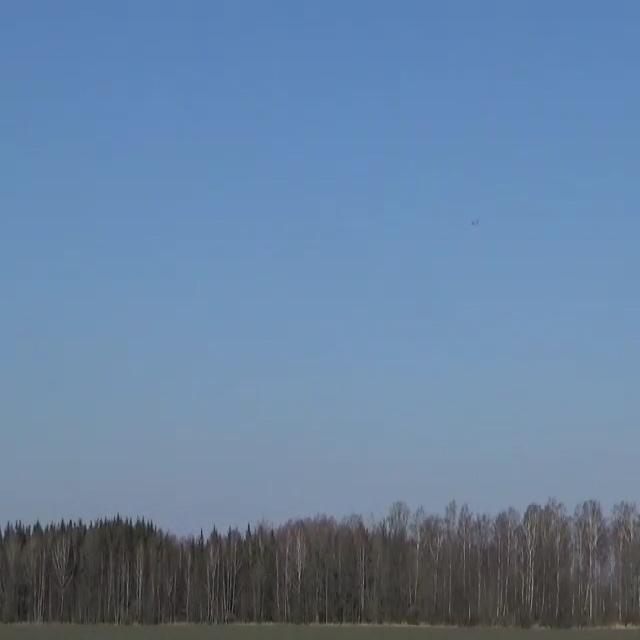drone: (472, 220, 479, 226)
